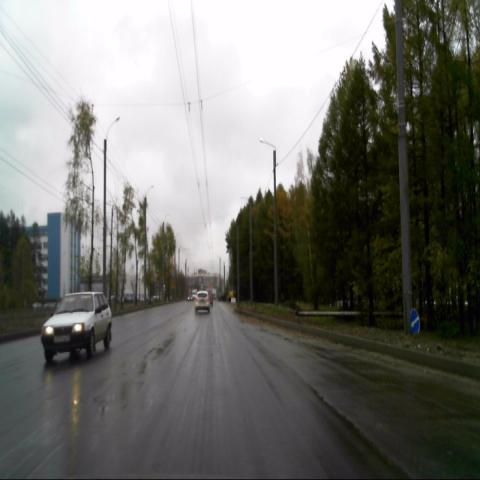4_2_2: (408, 309, 422, 336)
